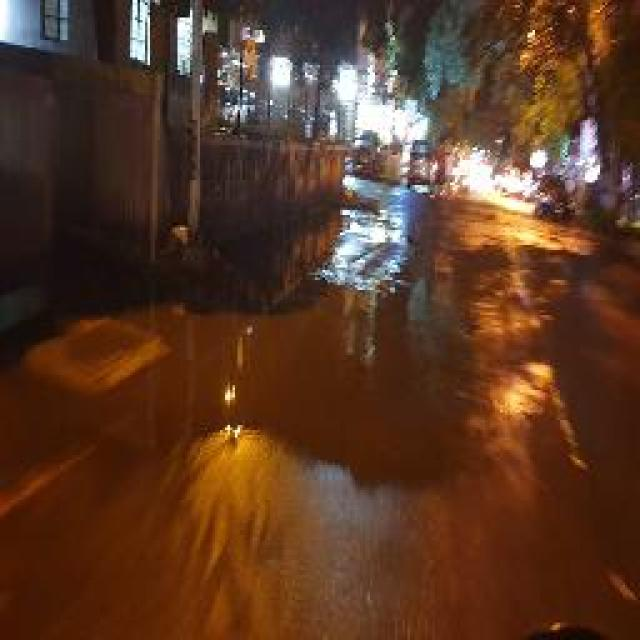stagnation: (139, 290, 508, 480)
